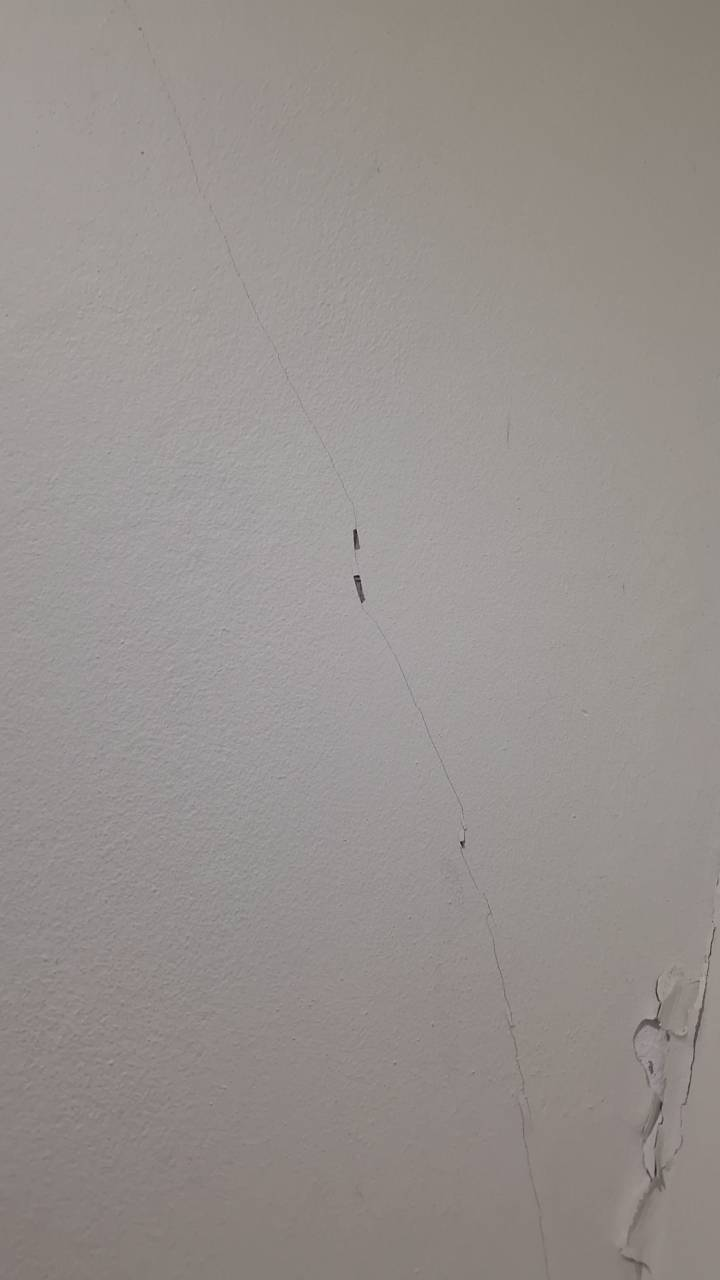Low: (105, 3, 704, 1280)
